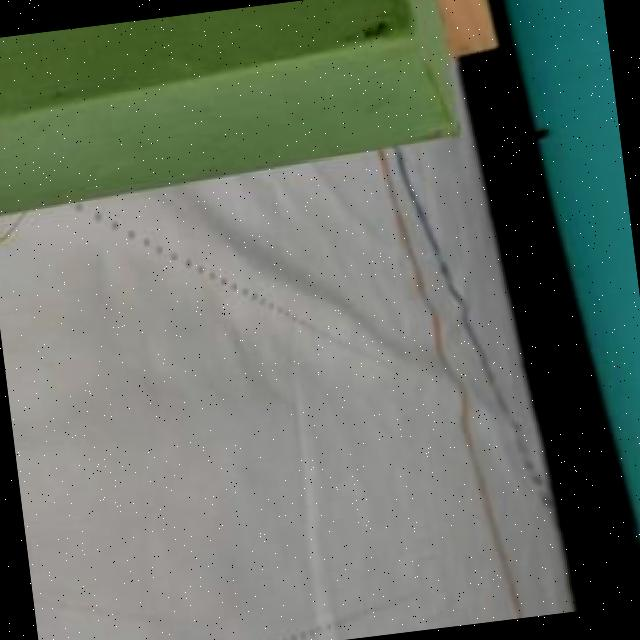greenbox: (0, 0, 466, 220)
